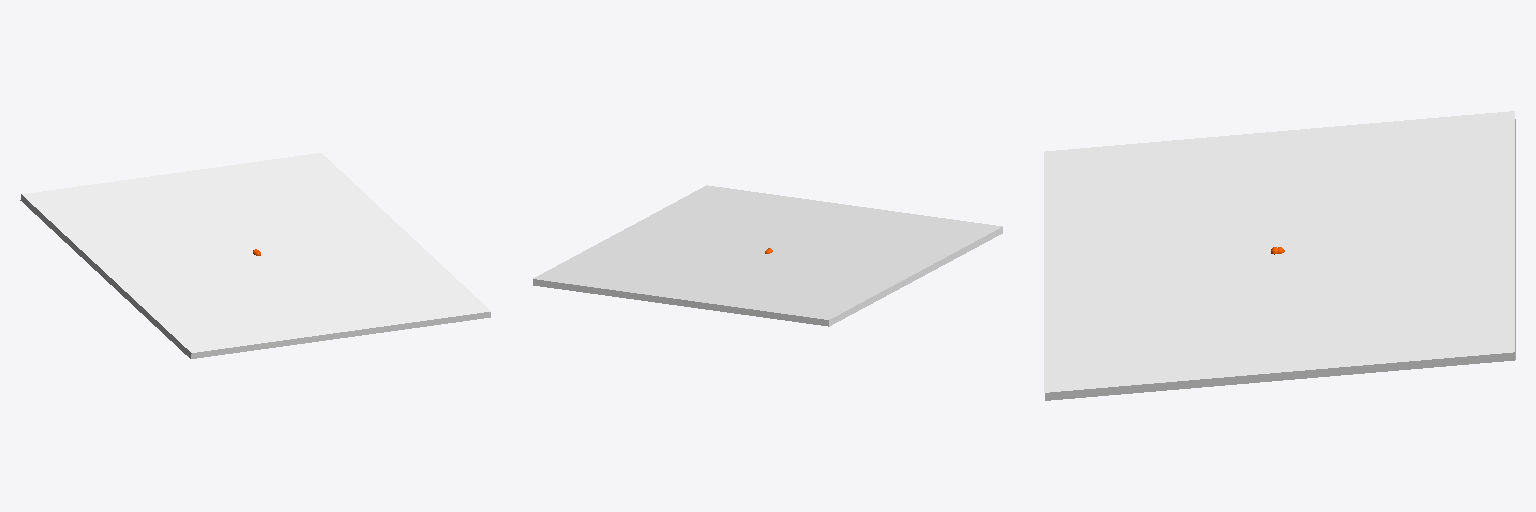
The robot description file, URDF, robot "ball":
<?xml version="1.0" ?>
<robot name="ball">

	<material name="white">
		<color rgba="1.0 1.0 1.0 1.0"/>
	</material>
	<material name="red">
		<color rgba="1.0 0.2 0.2 1.0"/>
	</material>
	<material name="orange">
		<color rgba="1.0 0.423529411765 0.0392156862745 1.0"/>
	</material>

	<!-- Root World Link -->
	<link name="world"/>

	<!-- Ground -->
	<joint name="ground" type="fixed">
		<parent link="world"/>
		<child link="ground"/>
	</joint>


	<link name="ground">
		<visual>
			<origin rpy="0.1 0.1 0" xyz="0 0 -1"/>
			<geometry>
				<box size="100 100 2"/>
			</geometry>
			<material name="white"/>
		</visual>
		<collision>
			<origin rpy="0.1 0.1 0" xyz="0 0 -1"/>
			<geometry>
				<box size="100 100 2"/>
			</geometry>
		</collision>
	</link>


	<!-- Actual ball -->
	<joint name="freeFlyer" type="floating">
		<parent link="world"/>
		<child link="freeFlyer"/>
	</joint>


	<link name="freeFlyer">
		<visual>
			<origin rpy="0 0 0" xyz="0 0 0"/>
			<geometry>
				<sphere radius="1.0"/>
			</geometry>
			<material name="orange"/>
		</visual>
		<collision>
			<origin rpy="0 0 0" xyz="0 0 0"/>
			<geometry>
				<sphere radius="1.0"/>
			</geometry>
		</collision>

		<visual>
			<origin rpy="0 0 0" xyz="0 -1 0"/>
			<geometry>
				<sphere radius="1.0"/>
			</geometry>
			<material name="orange"/>
		</visual>
		<collision>
			<origin rpy="0 0 0" xyz="0 -1 0"/>
			<geometry>
				<sphere radius="1.0"/>
			</geometry>
		</collision>

		<!-- samll dots for debug -->
		<visual>
			<origin rpy="0 0 0" xyz="0 0 1"/>
			<geometry>
				<sphere radius=".1"/>
			</geometry>
			<material name="red"/>
		</visual>
		<visual>
			<origin rpy="0 0 0" xyz="0 1 0"/>
			<geometry>
				<sphere radius=".1"/>
			</geometry>
			<material name="red"/>
		</visual>
		<visual>
			<origin rpy="0 0 0" xyz="1 0 0"/>
			<geometry>
				<sphere radius=".1"/>
			</geometry>
			<material name="red"/>
		</visual>

		<inertial>
			<origin rpy="0 0 0" xyz="0 -.5 0"/>
			<mass value="1."/>
			<inertia ixx="0.4" ixy="0." ixz="0." iyy="0.4" iyz="0." izz="0.4"/>
		</inertial>
	</link>

</robot>

--- What the picture shows (computed from the rendered views, not written in the file) ---
3 views of the same robot in one strip: view 1: azimuth 30°, elevation 25°; view 2: azimuth 150°, elevation 25°; view 3: azimuth 270°, elevation 25° (orthographic).
Model ball with 3 links and 2 joints (1 fixed, 1 floating), rooted at world, posed all joints at 0.
Visible links, largest first — view 1: ground; view 2: ground; view 3: ground.
Link boxes in pixels (<box>): ground: <box>20,153,491,358</box>; ground: <box>533,185,1002,326</box>; ground: <box>1044,111,1515,400</box>.
Bounding box of the posed robot: 101 × 99.7 × 21.9 m (x, y, z).
Geometry: primitives only (box / cylinder / sphere), no mesh files.